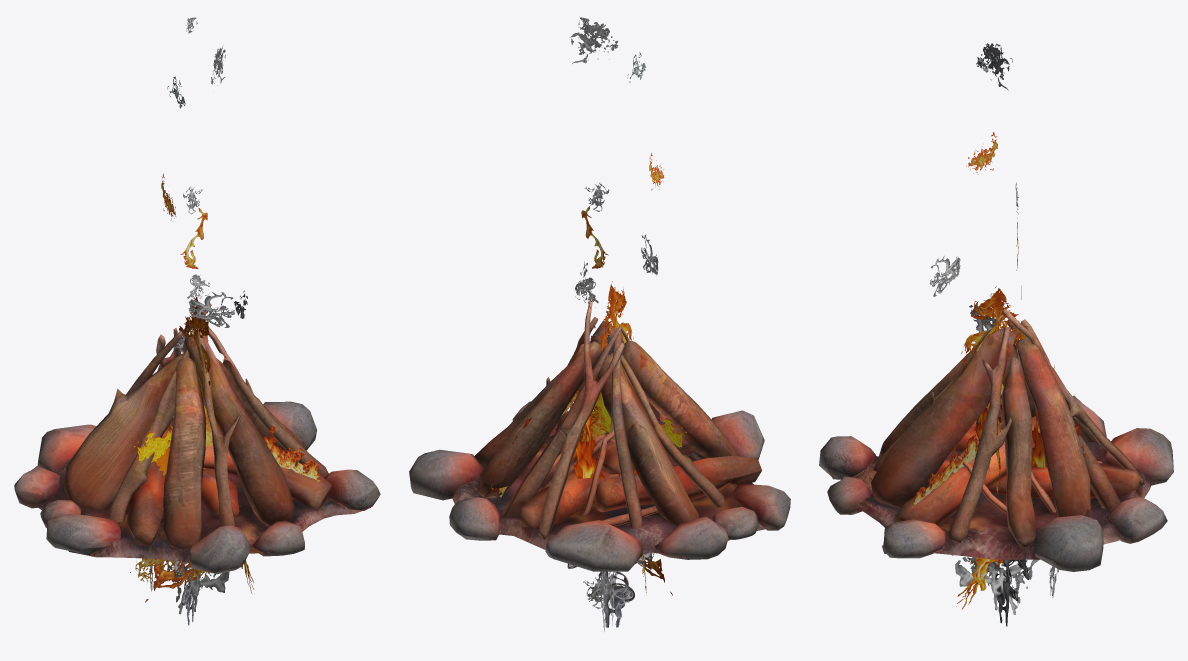
Rendered from Campfire.glb.
3 renders of one model, left to right at view 1: azimuth 30°, elevation 25°; view 2: azimuth 150°, elevation 25°; view 3: azimuth 270°, elevation 25°, orthographic. The views are drawn at different scales.
Parts seen in each view (by area): view 1: Campfire, fire_part_011, fire_part_02, fire_part_03, fire_part_016, fire_part_017, fire_part_010, fire_part_05; view 2: Campfire, fire_part_028, fire_part_00, fire_part_03, fire_part_019, fire_part_02; view 3: Campfire, fire_part_03, fire_part_016, fire_part_011, fire_part_028, fire_part_00, fire_part_09, fire_part_017, fire_part_019.
Boxes of the visible parts, x1,y1,x2,y2 form: Campfire: [14, 303, 380, 574]; fire_part_011: [247, 413, 320, 481]; fire_part_02: [134, 372, 225, 475]; fire_part_03: [178, 296, 211, 400]; fire_part_016: [165, 559, 229, 614]; fire_part_017: [188, 292, 234, 327]; fire_part_010: [145, 561, 209, 602]; fire_part_05: [130, 558, 211, 582]; Campfire: [409, 295, 790, 571]; fire_part_028: [567, 412, 665, 627]; fire_part_00: [572, 414, 637, 478]; fire_part_03: [600, 281, 633, 368]; fire_part_019: [570, 22, 618, 63]; fire_part_02: [583, 378, 686, 470]; Campfire: [819, 308, 1173, 571]; fire_part_03: [961, 286, 1028, 408]; fire_part_016: [952, 555, 1038, 614]; fire_part_011: [911, 421, 984, 507]; fire_part_028: [991, 395, 1036, 626]; fire_part_00: [975, 404, 1046, 467]; fire_part_09: [956, 557, 1003, 609]; fire_part_017: [929, 256, 960, 296]; fire_part_019: [977, 43, 1009, 90].
Bounding box in the file's own units: 3.92 × 7.18 × 3.76.
Materials: 2 (2 with a texture image).
